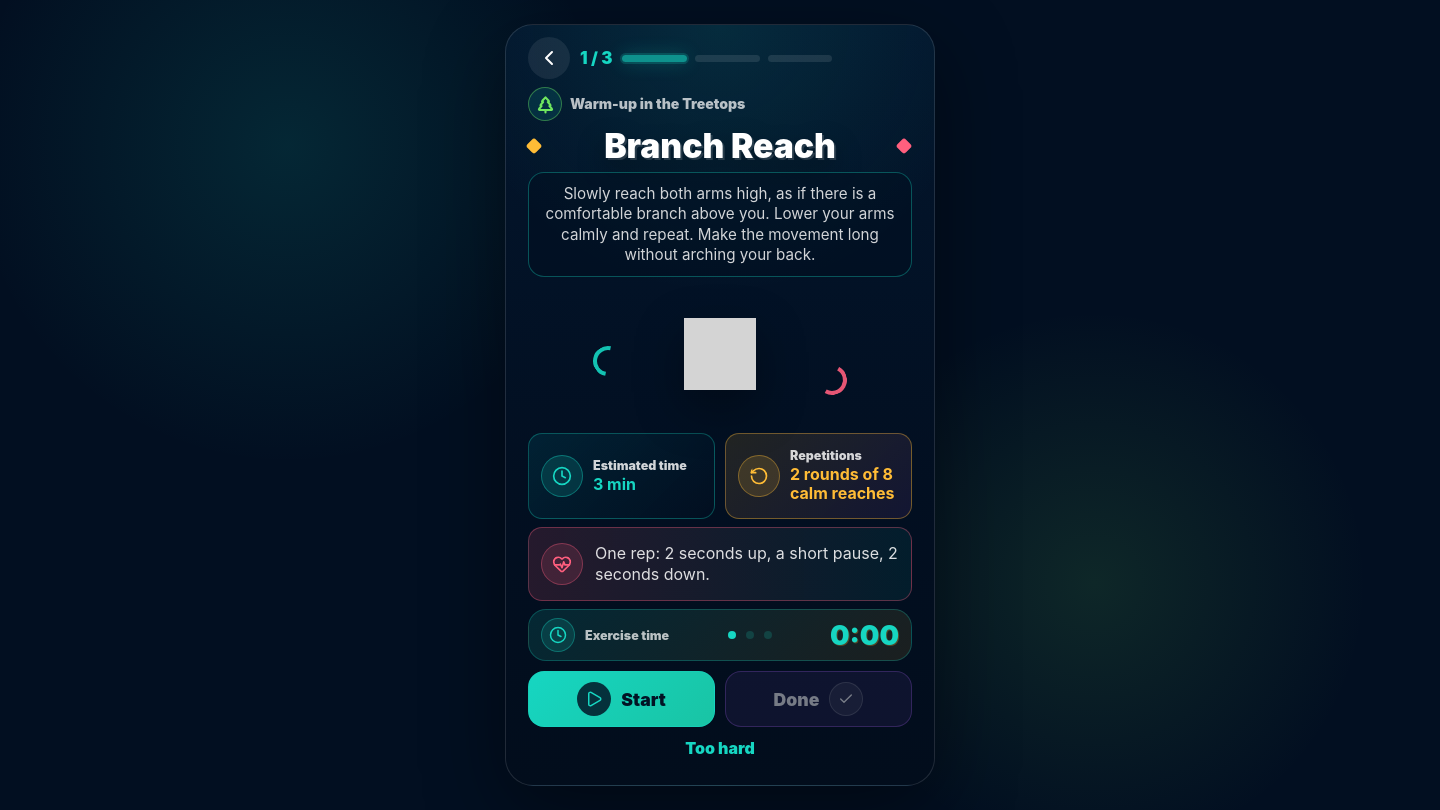
mission flow › keeps Done visible after Too hard instead of switching to Next
Expected: the text "Warm-up in the Treetops" is shown, [570,96,745,112]
Expected: the button "Start" is shown, [528,671,715,727]
Click the button "Too hard".
click(720, 748)  # box [528,737,912,759]
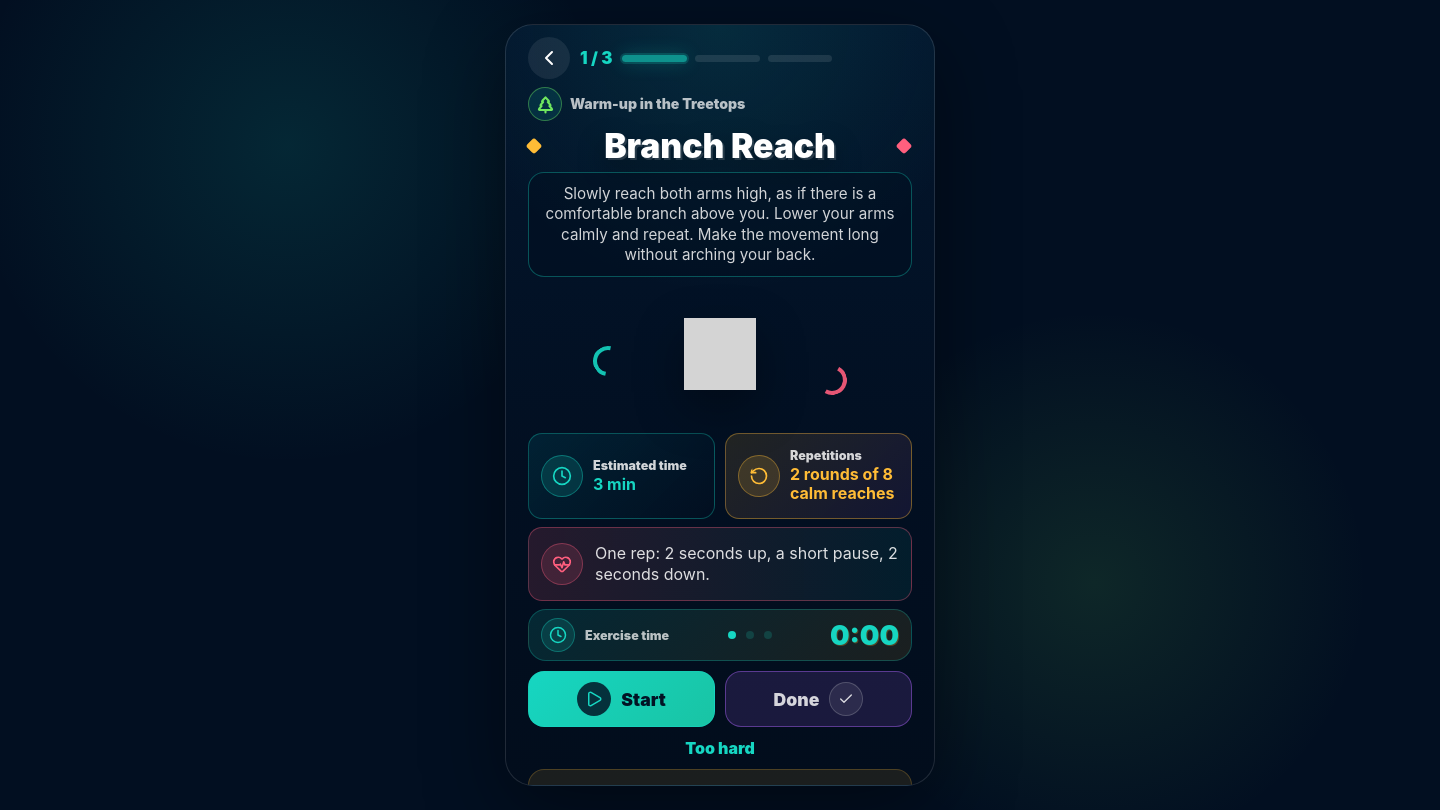
Expected: the button "Start" is shown, [528,671,715,727]
Now the button "Done" is enabled, box [725,671,912,727]
